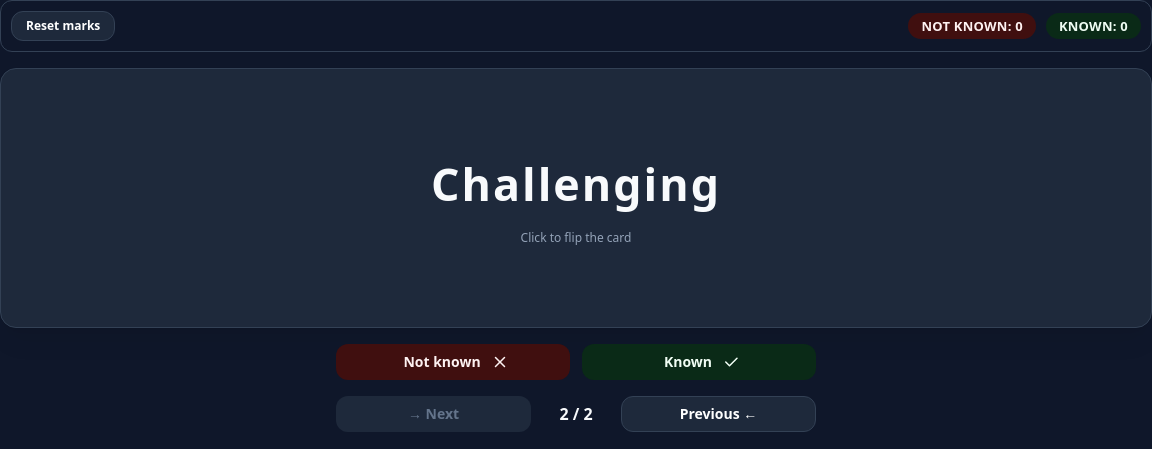
Test: FlashcardsTab › prev is disabled on the first card, next on the last
Expected: the button "Next →" is disabled, top-left (336, 396), bottom-right (531, 432)
Step 1. Click the button "← Previous" → click(718, 414), box top-left (621, 396), bottom-right (816, 432)
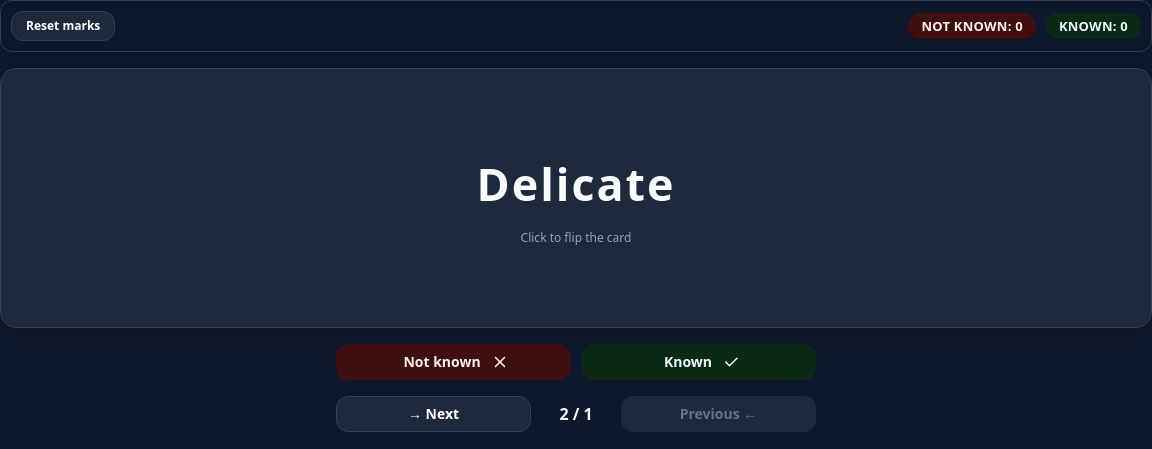
Expected: the button "Next →" is enabled, top-left (336, 396), bottom-right (531, 432)
